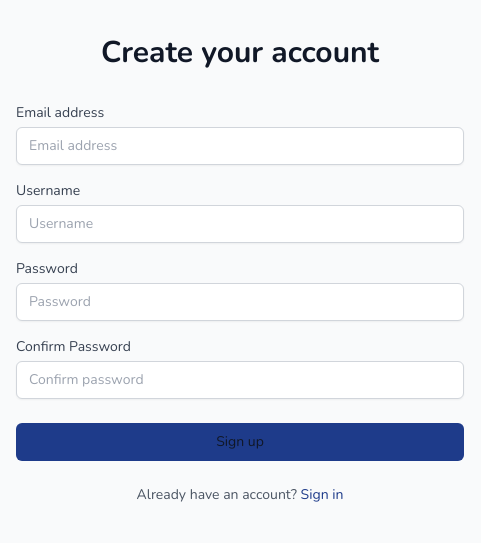
SignupForm › should display validation error for missing email
Type "testuser" into the field with placeholder "Username". click: (240, 224)
box: [16,205,464,243]
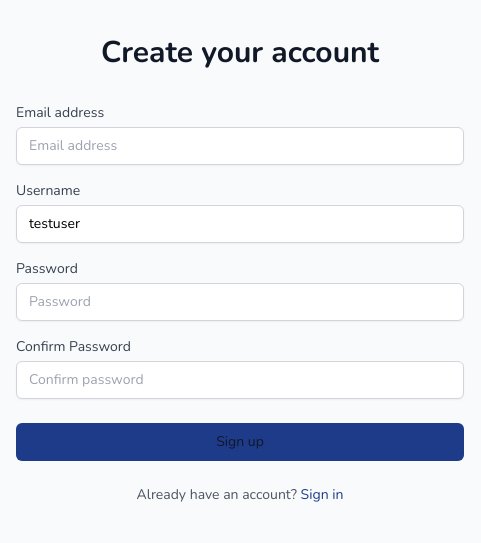
Click the button "Sign up". click: (240, 442)
box: [16,423,464,461]
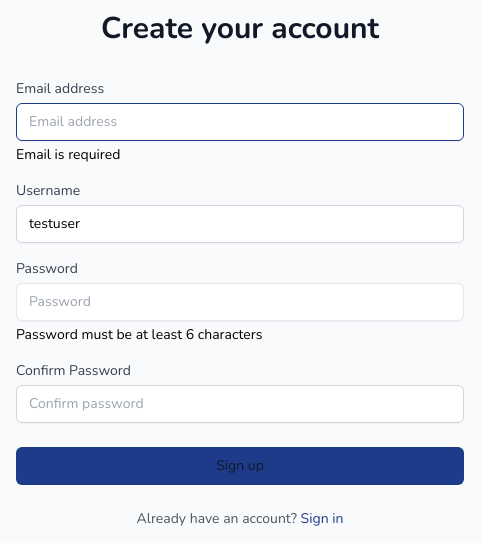
Now the text "Email is required" is shown, box [16,145,120,164]
